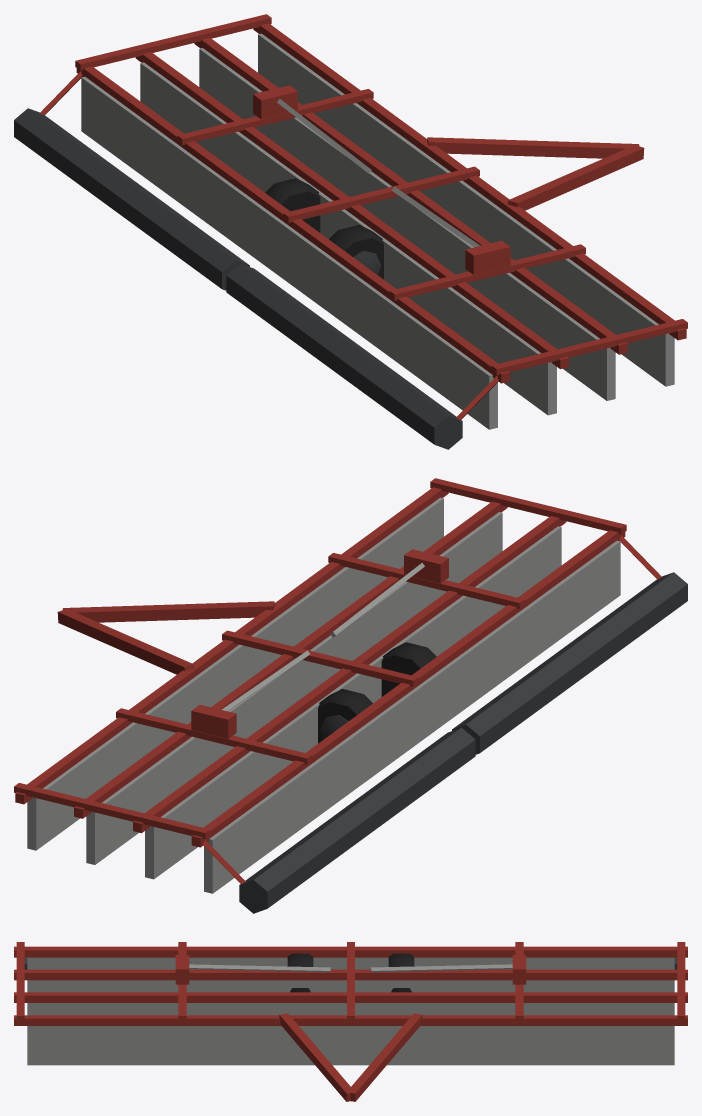
The model's file is SM_Prop_farm_cultivator_0_LOD1.glb.
3 renders of one model, top to bottom at view 1: azimuth 30°, elevation 25°; view 2: azimuth 150°, elevation 25°; view 3: azimuth 270°, elevation 25°, orthographic. The views are drawn at different scales.
Visible parts, largest first — view 1: SM_Prop_farm_cultivator_0_LOD1; view 2: SM_Prop_farm_cultivator_0_LOD1; view 3: SM_Prop_farm_cultivator_0_LOD1.
Boxes of the visible parts, bbox=[...] form: SM_Prop_farm_cultivator_0_LOD1: bbox=[14, 14, 687, 449]; SM_Prop_farm_cultivator_0_LOD1: bbox=[14, 478, 687, 913]; SM_Prop_farm_cultivator_0_LOD1: bbox=[14, 942, 687, 1101].
Bounding box in the file's own units: 5.67 × 1.17 × 10.
